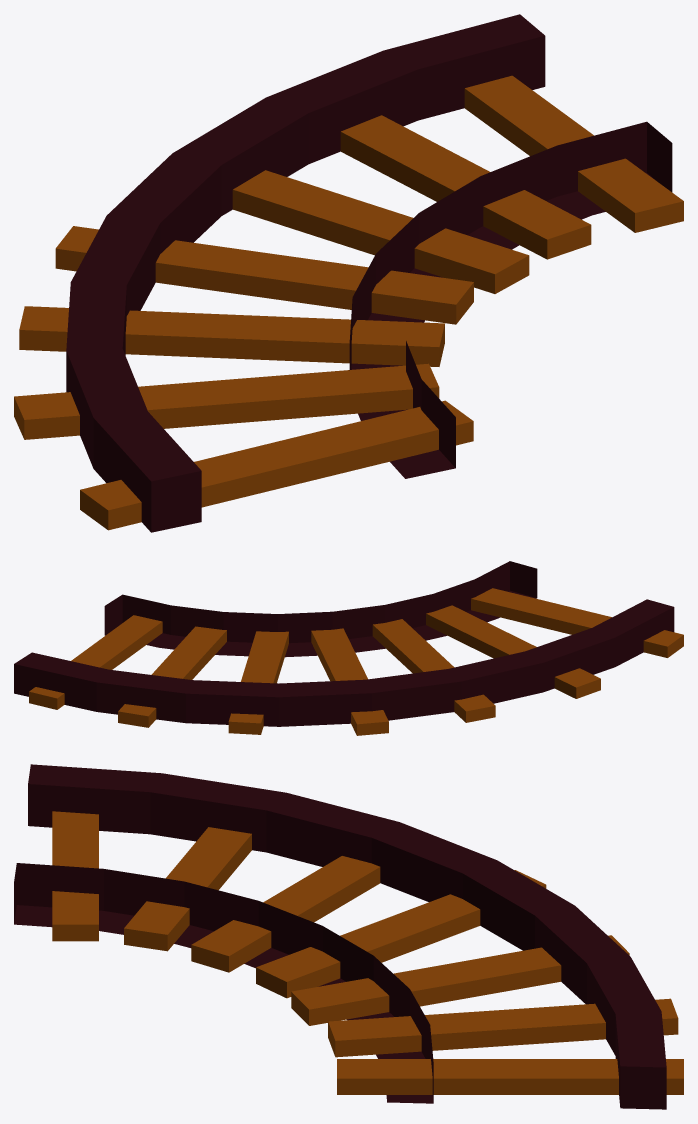
Rendered from bendWood.fbx.
The picture shows the model from 3 angles, top to bottom: view 1: azimuth 30°, elevation 25°; view 2: azimuth 150°, elevation 25°; view 3: azimuth 270°, elevation 25°; orthographic projection. The views are drawn at different scales.
Parts seen in each view (by area): view 1: Cube.011, Cube.010, Cube.014, Cube.013, Cube.015, Cube.012, Cube.016, Cube.017, Cube.018; view 2: Cube.011, Cube.010, Cube.012, Cube.013, Cube.014, Cube.018, Cube.017, Cube.015, Cube.016; view 3: Cube.011, Cube.010, Cube.018, Cube.017, Cube.016, Cube.015, Cube.014, Cube.013, Cube.012.
Boxes of the visible parts, x1=… form: Cube.011: x1=66, y1=14, x2=545, y2=532; Cube.010: x1=349, y1=121, x2=672, y2=478; Cube.014: x1=19, y1=306, x2=444, y2=366; Cube.013: x1=14, y1=363, x2=439, y2=439; Cube.015: x1=55, y1=226, x2=473, y2=324; Cube.012: x1=80, y1=400, x2=473, y2=530; Cube.016: x1=232, y1=170, x2=529, y2=293; Cube.017: x1=340, y1=115, x2=591, y2=259; Cube.018: x1=464, y1=75, x2=683, y2=232; Cube.011: x1=14, y1=599, x2=674, y2=726; Cube.010: x1=104, y1=561, x2=537, y2=657; Cube.012: x1=471, y1=588, x2=683, y2=657; Cube.013: x1=426, y1=605, x2=600, y2=698; Cube.014: x1=372, y1=619, x2=495, y2=722; Cube.018: x1=29, y1=615, x2=162, y2=709; Cube.017: x1=118, y1=626, x2=226, y2=727; Cube.015: x1=311, y1=628, x2=388, y2=735; Cube.016: x1=228, y1=631, x2=288, y2=734; Cube.011: x1=28, y1=764, x2=666, y2=1109; Cube.010: x1=14, y1=863, x2=433, y2=1103; Cube.018: x1=337, y1=1059, x2=683, y2=1094; Cube.017: x1=328, y1=998, x2=678, y2=1057; Cube.016: x1=291, y1=935, x2=629, y2=1025; Cube.015: x1=256, y1=870, x2=546, y2=998; Cube.014: x1=191, y1=856, x2=380, y2=972; Cube.013: x1=124, y1=827, x2=251, y2=951; Cube.012: x1=52, y1=811, x2=98, y2=941.
Size of the model in its own units: 1605 by 100 by 1442.
